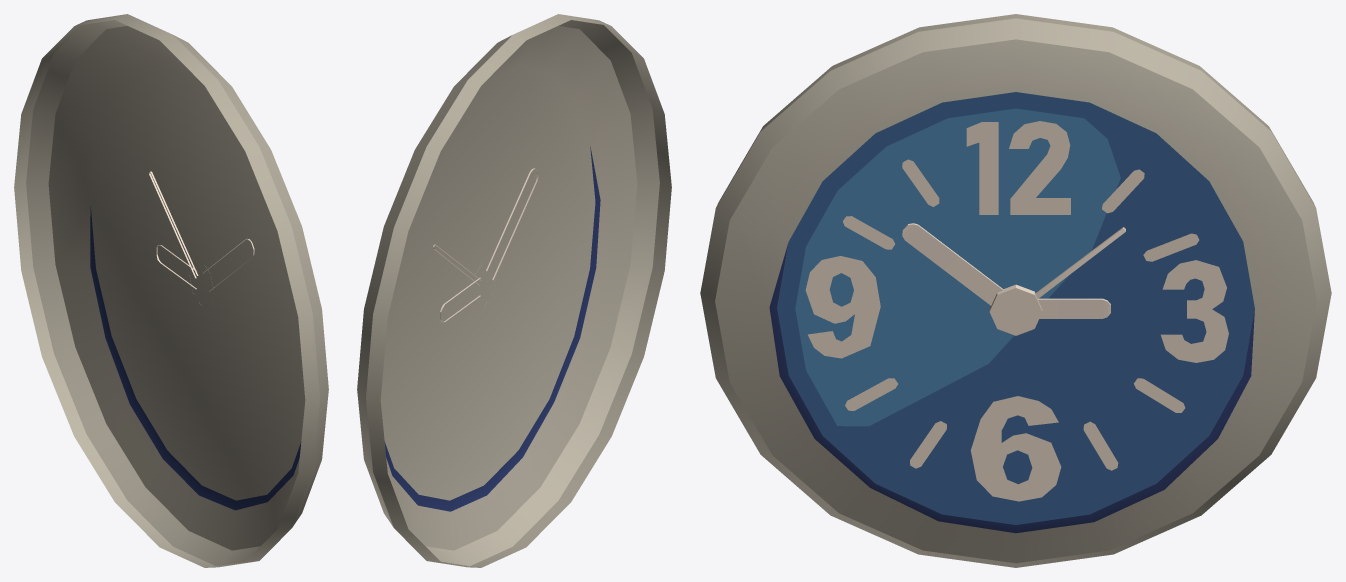
File: clock2.fbx
3 renders of one model, left to right at view 1: azimuth 30°, elevation 25°; view 2: azimuth 150°, elevation 25°; view 3: azimuth 270°, elevation 25°, orthographic. The views are drawn at different scales.
Visible parts, largest first — view 1: clock2; view 2: clock2; view 3: clock2.
Boxes of the visible parts, left/top/right/bottom form: clock2: left=14, top=14, right=328, bottom=567; clock2: left=357, top=14, right=671, bottom=567; clock2: left=700, top=14, right=1331, bottom=567.
Size of the model in its own units: 0.0896 by 0.8899 by 0.9264.
